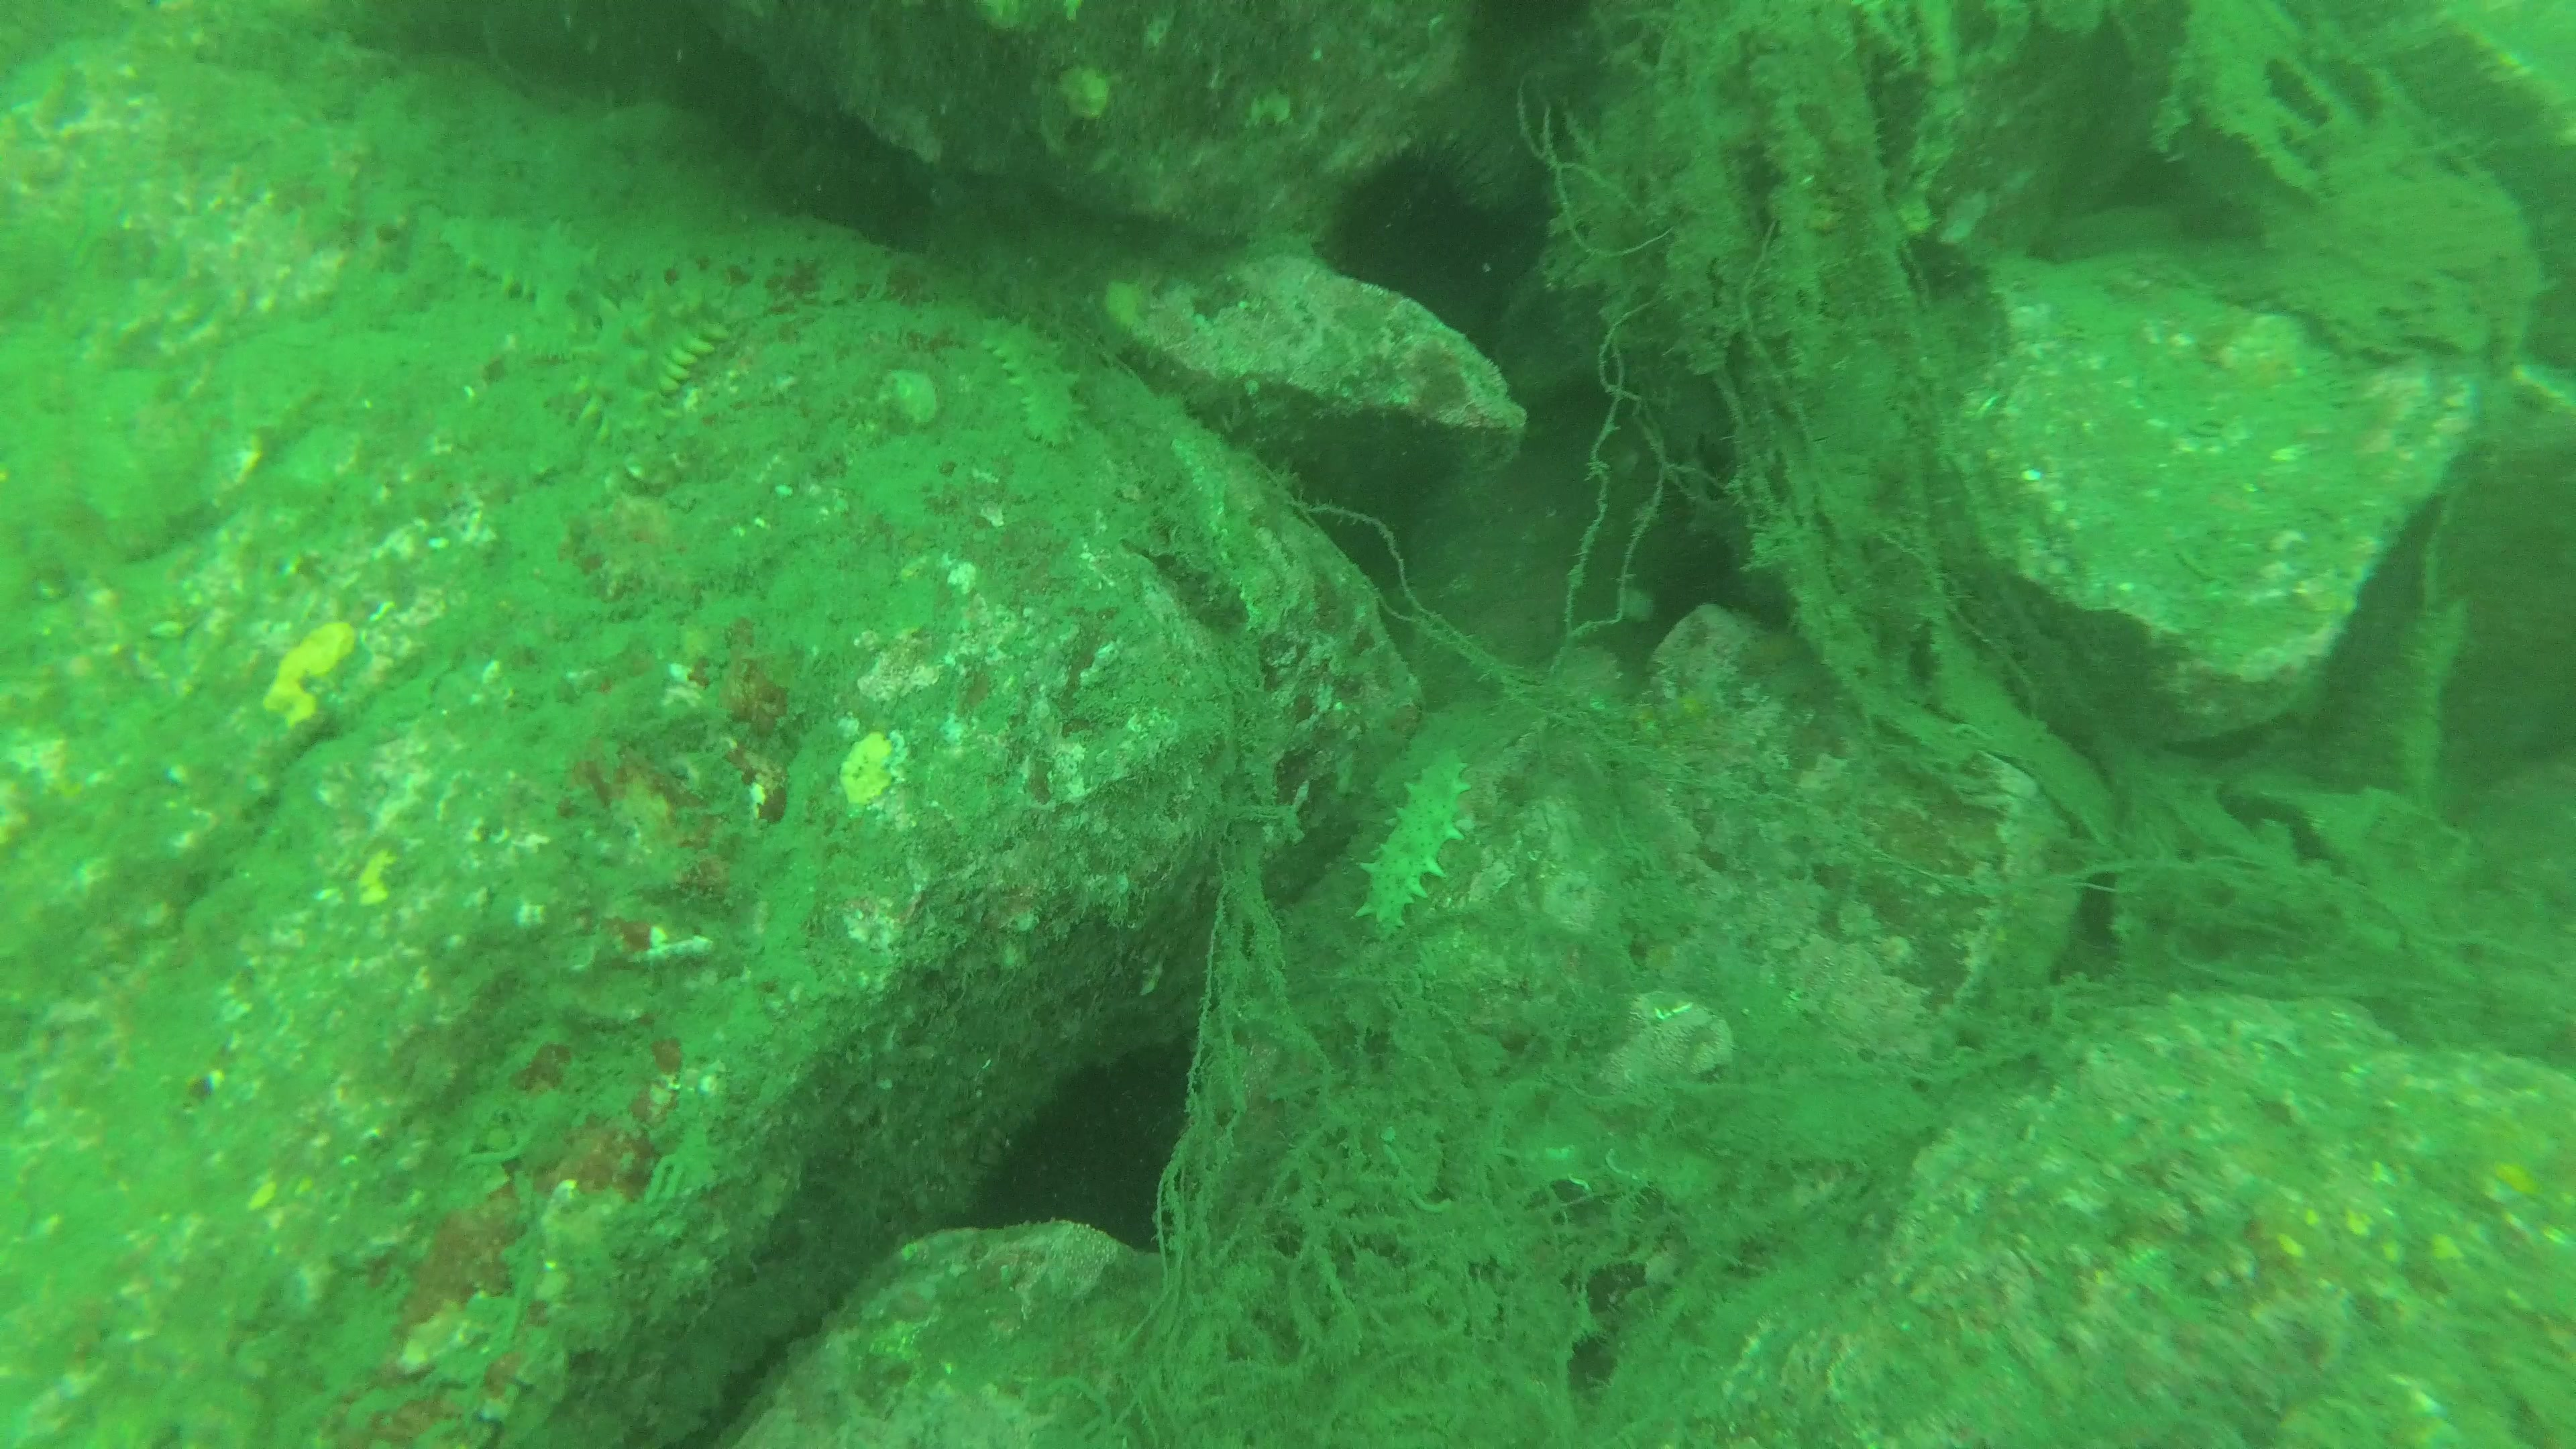holothurian: (571, 283, 731, 458), (1353, 741, 1474, 947), (437, 212, 610, 310), (977, 313, 1085, 448)
